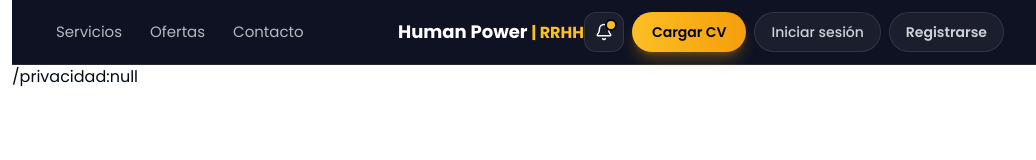
Test case: LandingHeader · links de sección › fuera de la landing, click en un link de sección navega a / con la sección en el state
Click the link "Servicios": (89, 31) [56,21,122,42]
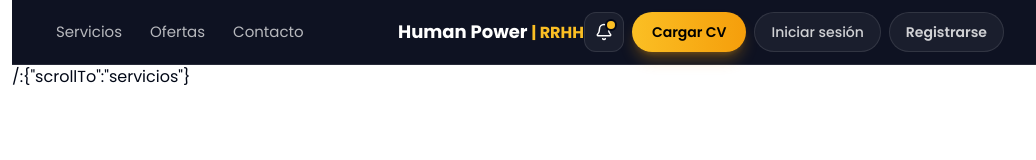
Result: the text with test id "loc" reads "/:{\"scrollTo\":\"servicios\"}" at [12,65,190,88]
